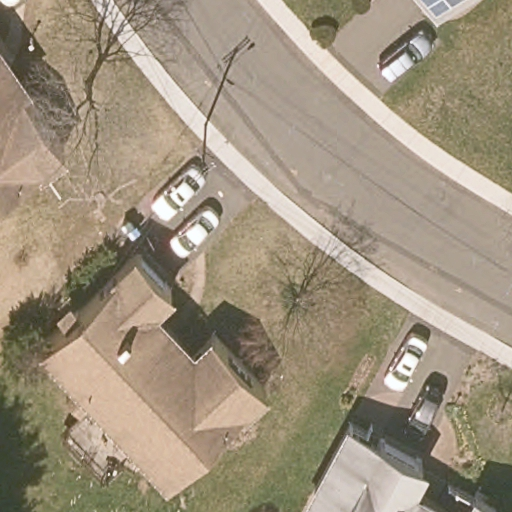DT: (189, 121, 218, 186)
